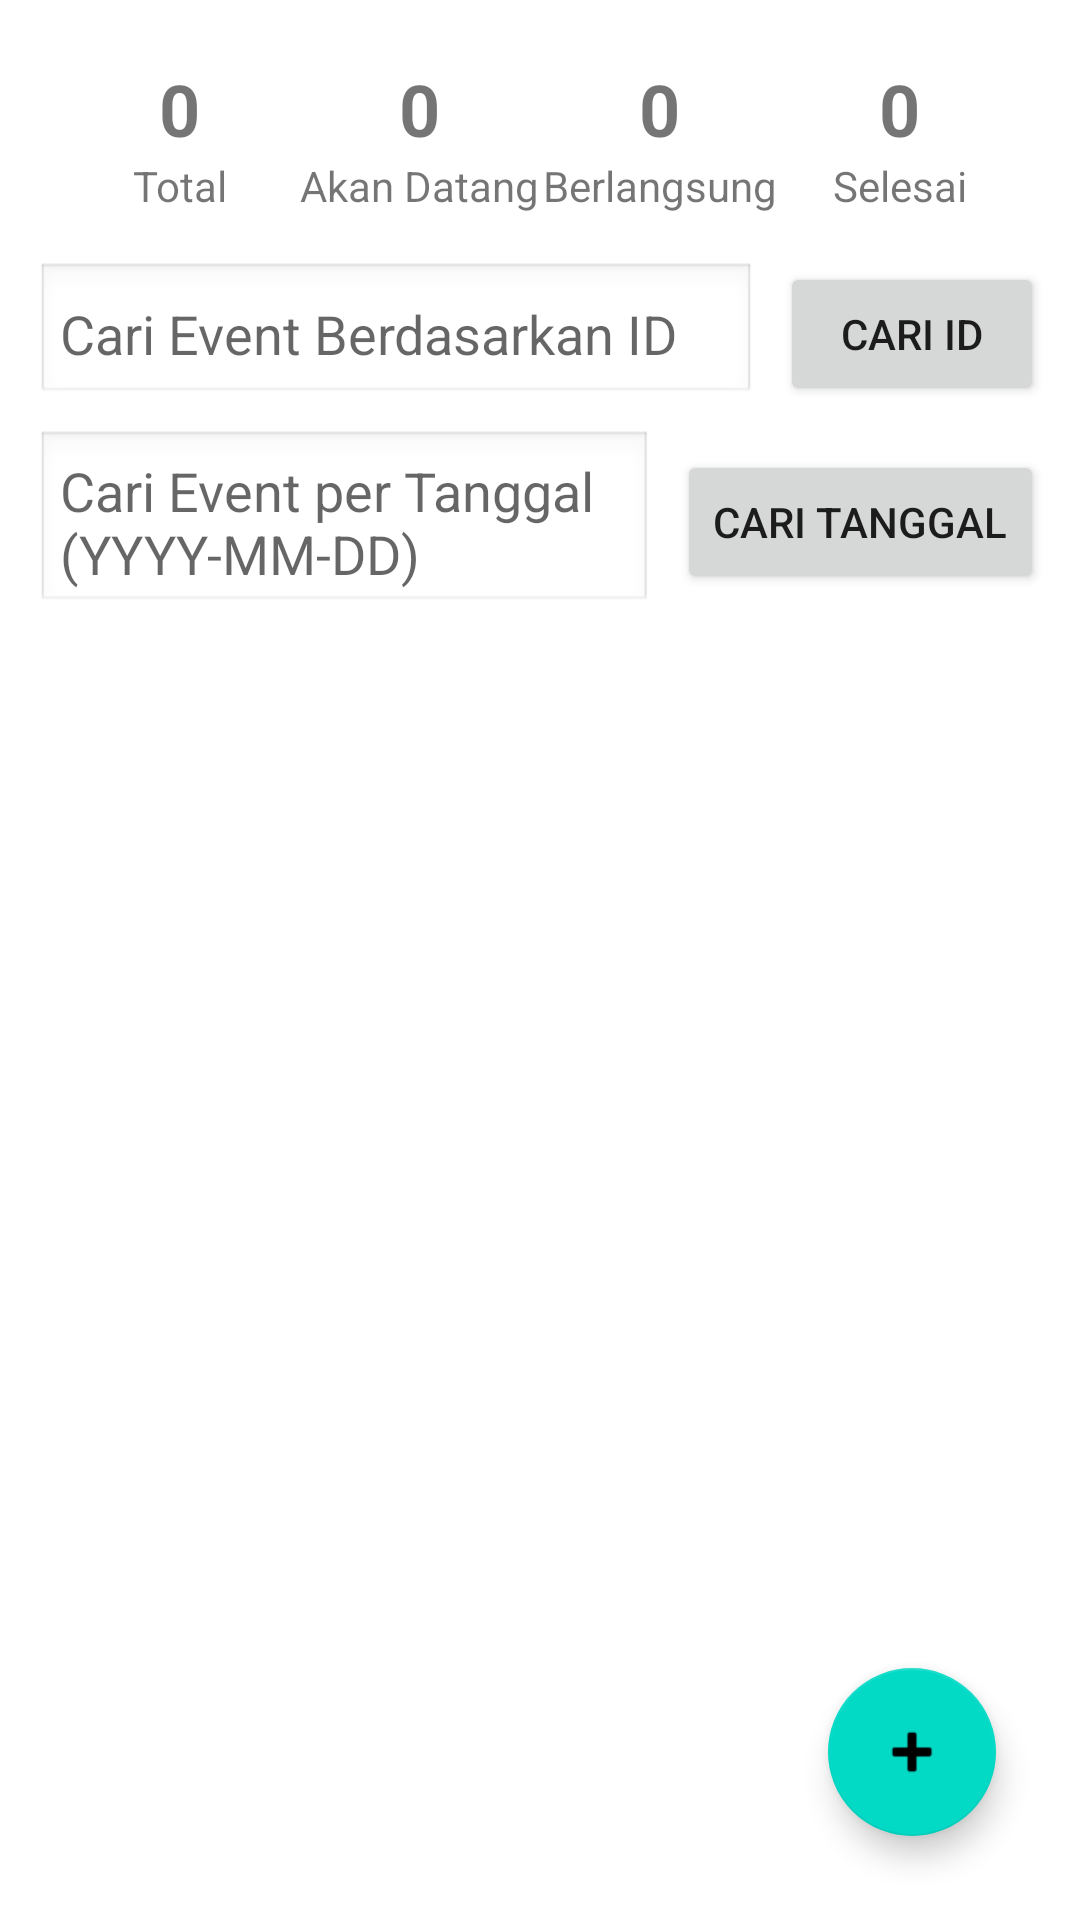

Point at icon controls on the screen. Image size 1080×1920, points as (x,y).
Add Event: (912,1752)
